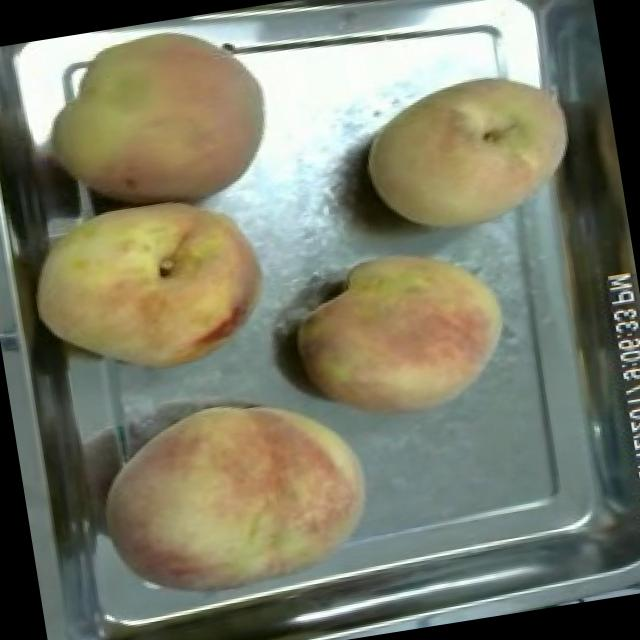Fruit: (80, 375, 390, 630), (10, 174, 286, 401), (28, 6, 288, 230), (276, 227, 524, 438), (344, 52, 594, 256)
